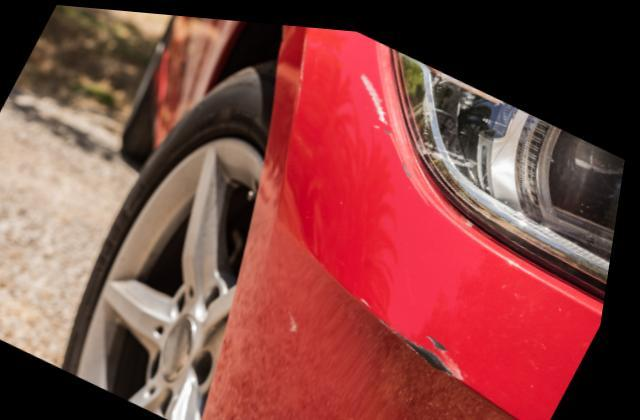scratch: (373, 296, 477, 375), (361, 63, 398, 130)
